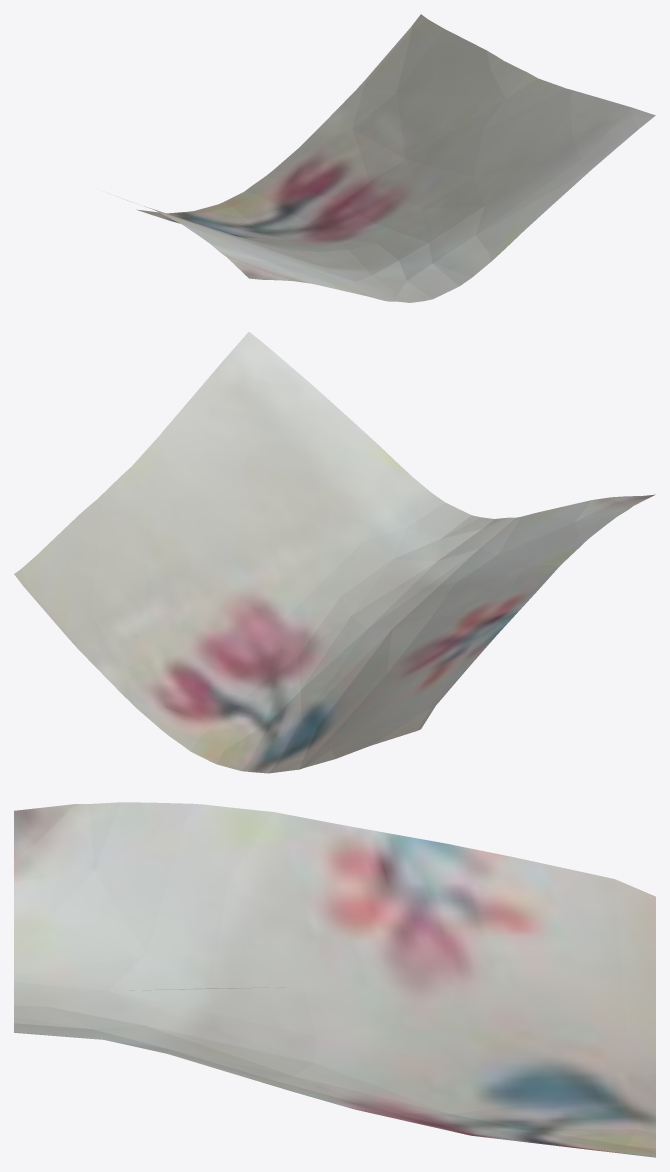
The picture shows the model from 3 angles, top to bottom: view 1: azimuth 30°, elevation 25°; view 2: azimuth 150°, elevation 25°; view 3: azimuth 270°, elevation 25°; orthographic projection. The views are drawn at different scales.
Size of the model in its own units: 42.87 by 21.36 by 42.87.
Materials: 1 (1 with a texture image).
